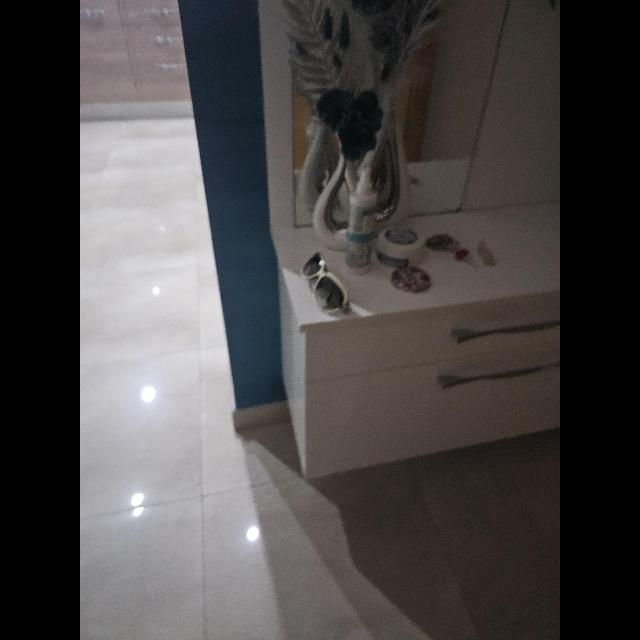Sunglasses: (301, 252, 349, 314)
